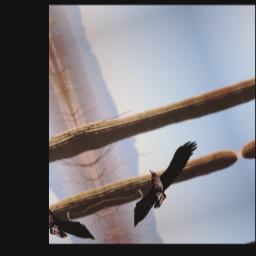Crow: (110, 137, 219, 229)
